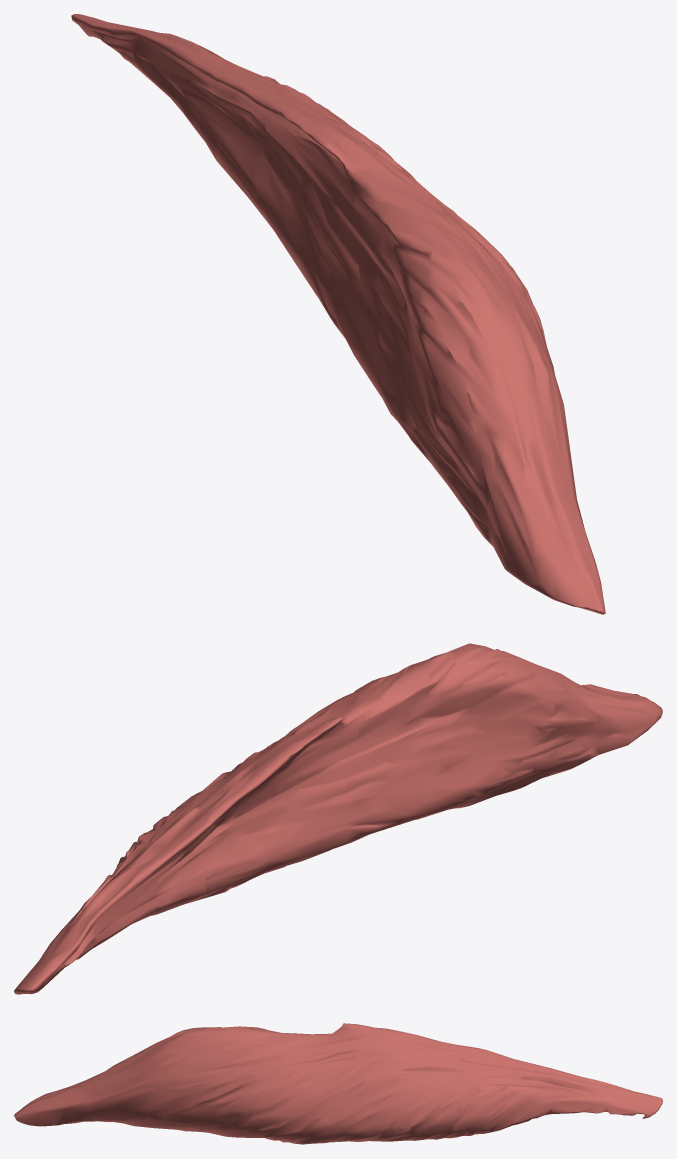
The picture shows the model from 3 angles, top to bottom: view 1: azimuth 30°, elevation 25°; view 2: azimuth 150°, elevation 25°; view 3: azimuth 270°, elevation 25°; orthographic projection. The views are drawn at different scales.
Parts seen in each view (by area): view 1: 左侧肱三头肌外侧头; view 2: 左侧肱三头肌外侧头; view 3: 左侧肱三头肌外侧头.
Part boxes in pixels (bbox=[...]): 左侧肱三头肌外侧头: bbox=[71, 14, 605, 614]; 左侧肱三头肌外侧头: bbox=[14, 643, 662, 994]; 左侧肱三头肌外侧头: bbox=[14, 1023, 662, 1144].
Size of the model in its own units: 0.0828 by 0.0747 by 0.3901.
